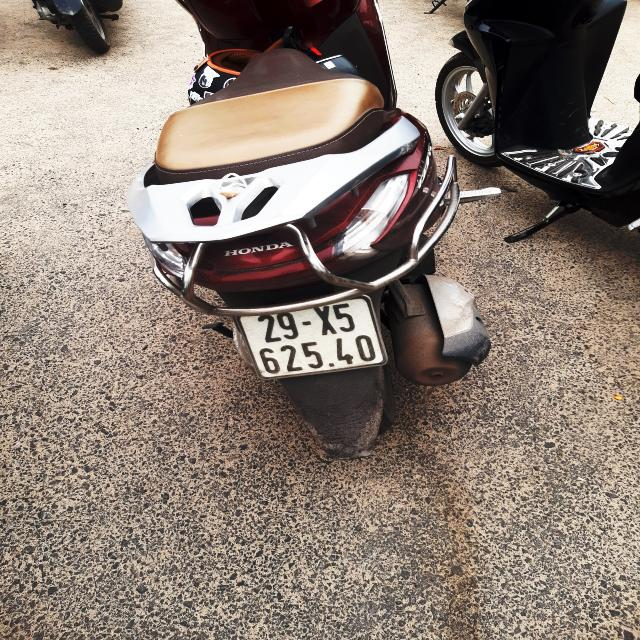license_plate: (227, 290, 397, 388)
